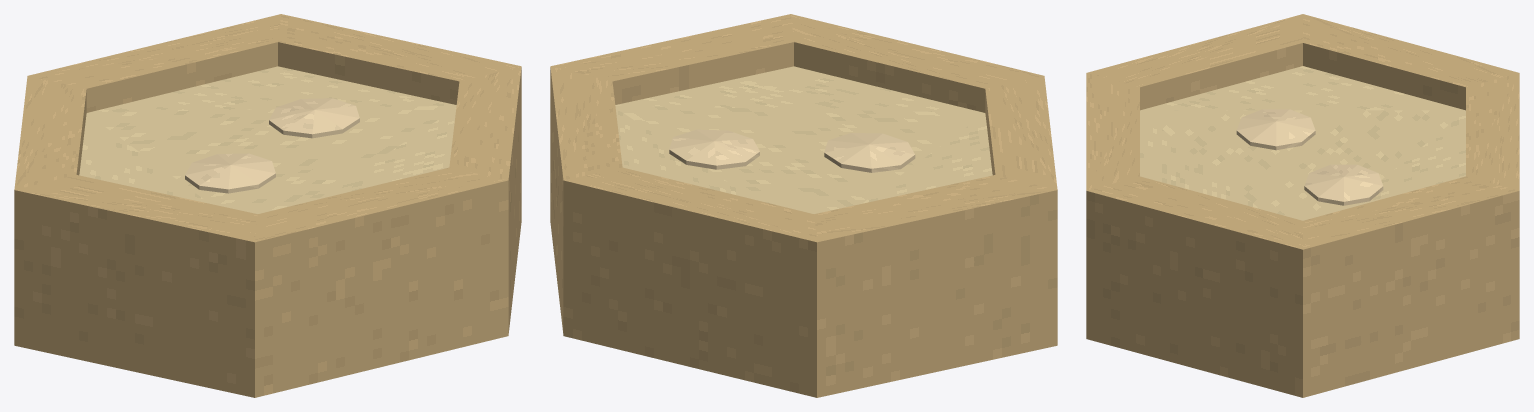
The model's file is royal_jelly.glb.
3 renders of one model, left to right at view 1: azimuth 30°, elevation 25°; view 2: azimuth 150°, elevation 25°; view 3: azimuth 270°, elevation 25°, orthographic. The views are drawn at different scales.
Visible parts, largest first — view 1: block_six-sided wax cell, block_milky jelly inside, block_jelly surface (×2); view 2: block_six-sided wax cell, block_milky jelly inside, block_jelly surface (×2); view 3: block_six-sided wax cell, block_milky jelly inside, block_jelly surface (×2).
Boxes of the visible parts, box(x1,y1,x2,y2) form: block_six-sided wax cell: box(14, 14, 521, 397); block_milky jelly inside: box(79, 66, 456, 213); block_jelly surface (×2): box(185, 98, 359, 193); block_six-sided wax cell: box(550, 14, 1057, 397); block_milky jelly inside: box(615, 66, 992, 213); block_jelly surface (×2): box(669, 129, 915, 172); block_six-sided wax cell: box(1086, 14, 1519, 397); block_milky jelly inside: box(1140, 66, 1465, 220); block_jelly surface (×2): box(1236, 109, 1383, 205).
Bounding box in the file's own units: 0.1638 × 0.048 × 0.1272.
1 material, 1 textured.
